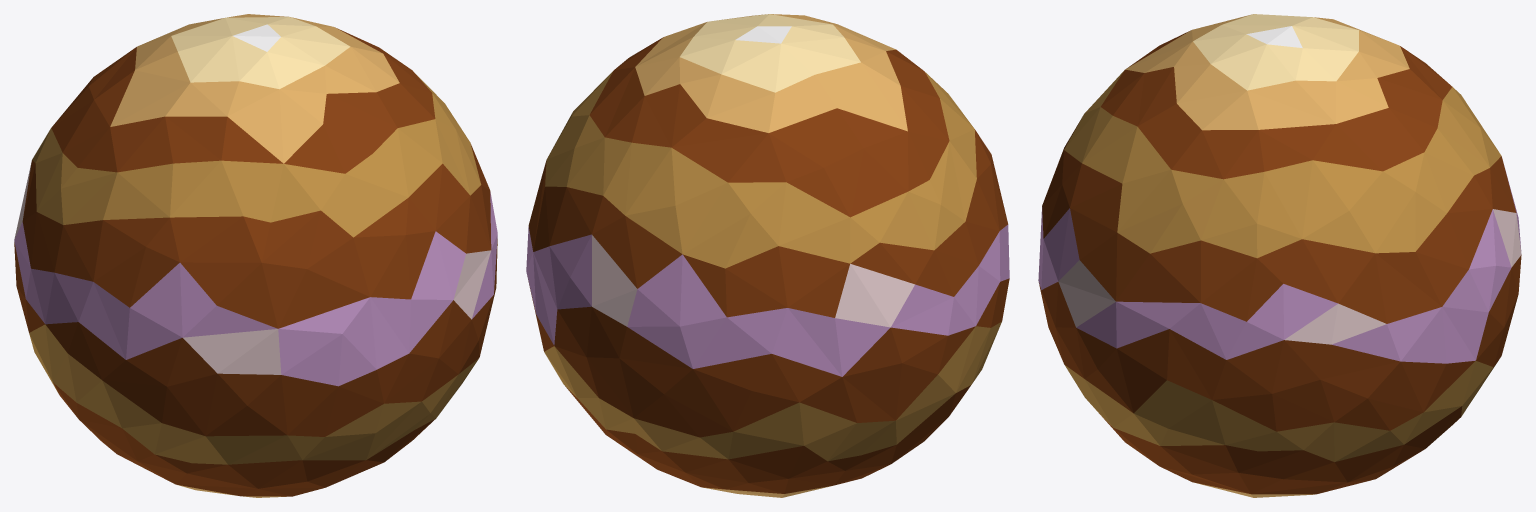
File: gasGiant3.fbx
3 views of the same model, side by side, from view 1: azimuth 30°, elevation 25°; view 2: azimuth 150°, elevation 25°; view 3: azimuth 270°, elevation 25° (orthographic).
Parts seen in each view (by area): view 1: GasGiant3; view 2: GasGiant3; view 3: GasGiant3.
Boxes of the visible parts, x1,y1,x2,y2 form: GasGiant3: (14, 14, 497, 497); GasGiant3: (526, 14, 1009, 497); GasGiant3: (1038, 14, 1521, 497).
Size of the model in its own units: 784 by 790 by 782.
1 material, 1 textured.
